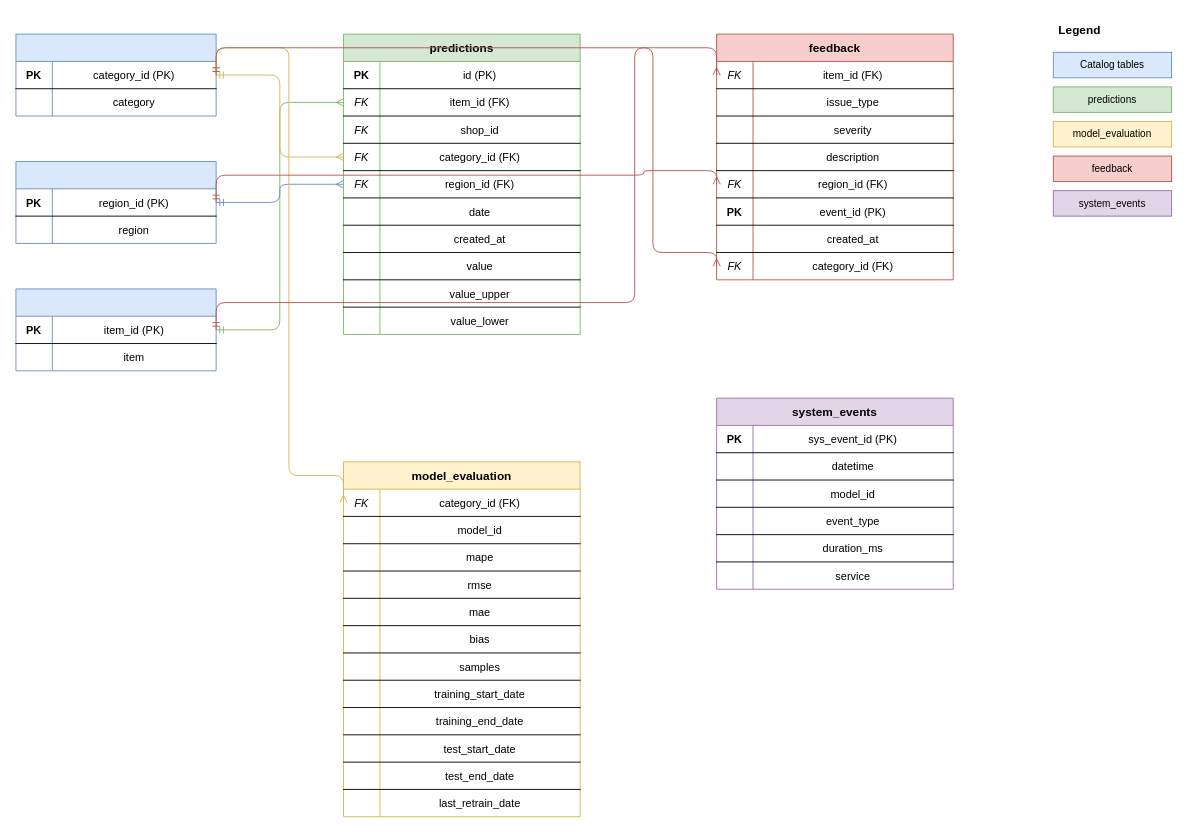
This 1188x833 diagram has some shape labels left out. Here are the shapes that lost their labels. From the top down, the box of each, then its label:
(15, 33, 216, 116): catalog_category
(15, 161, 216, 243): catalog_region
(15, 288, 216, 371): catalog_item
